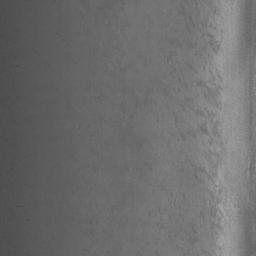Silk spot: (120, 0, 227, 256), (136, 162, 152, 182), (136, 139, 147, 148)
